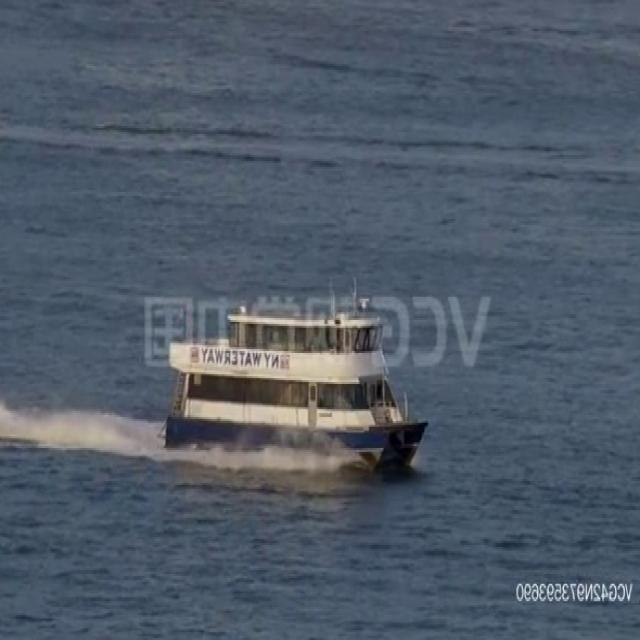houseboat: (156, 294, 424, 462)
